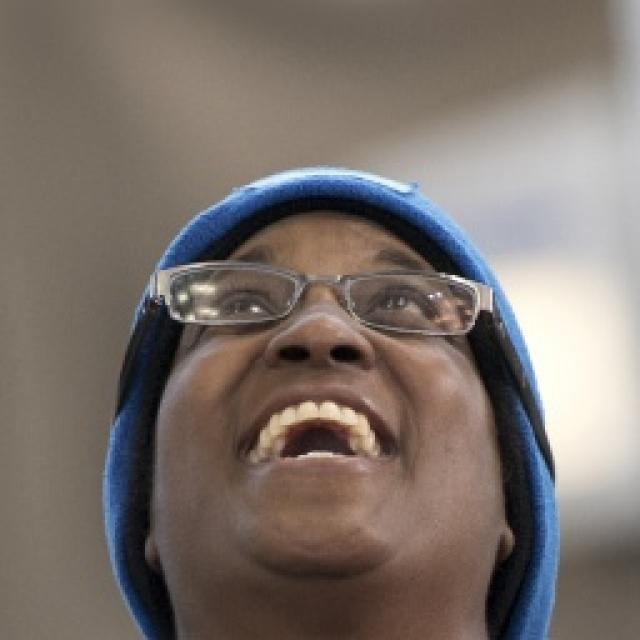glasses: (135, 256, 502, 348)
